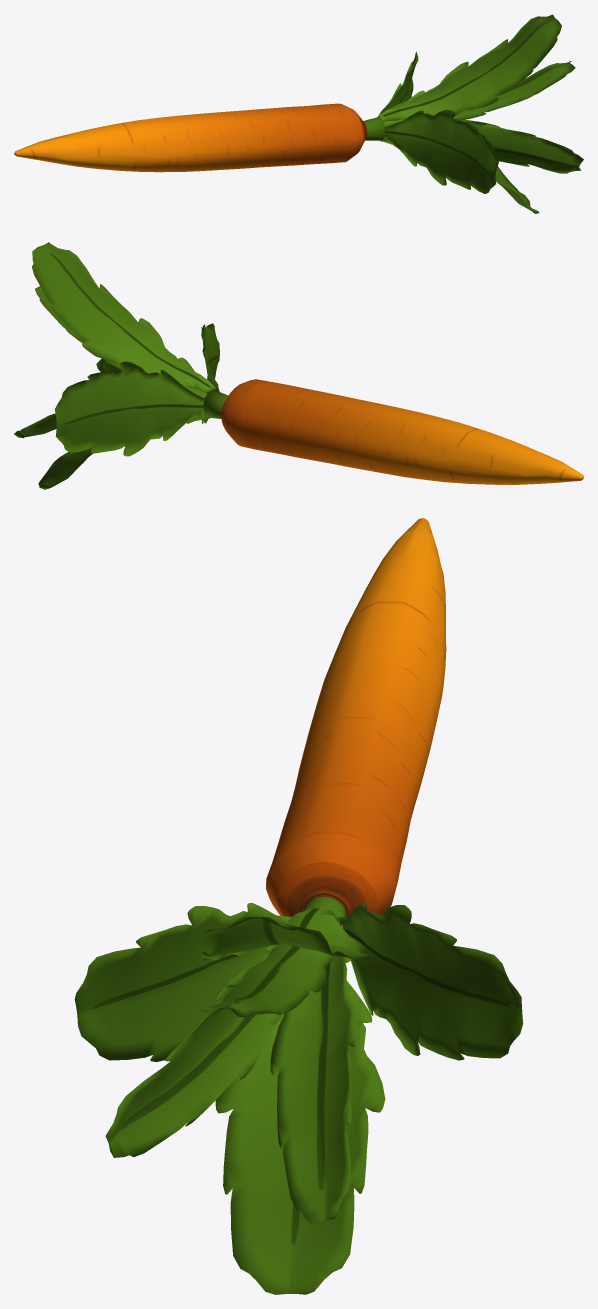
The model's file is carrot_dynamic.obj.
3 views of the same model, one above another, from view 1: azimuth 30°, elevation 25°; view 2: azimuth 150°, elevation 25°; view 3: azimuth 270°, elevation 25° (orthographic). The views are drawn at different scales.
Bounding box in the file's own units: 0.808 × 0.297 × 0.3069.
3 materials, 3 textured.
